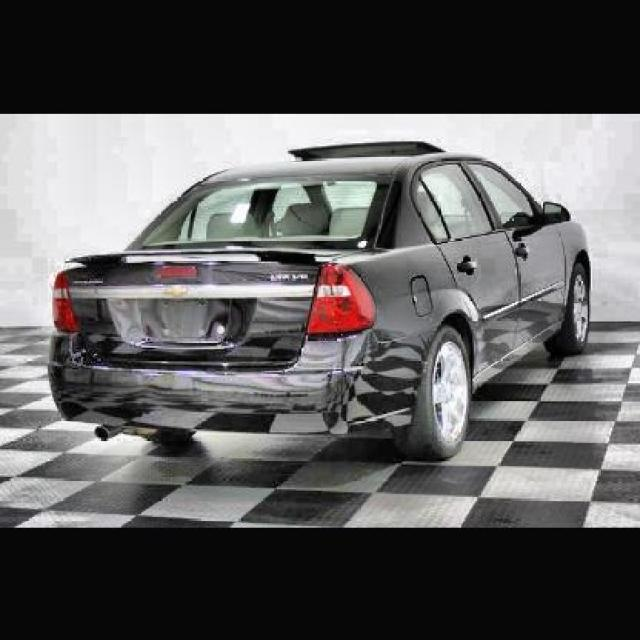black: (53, 158, 578, 454)
